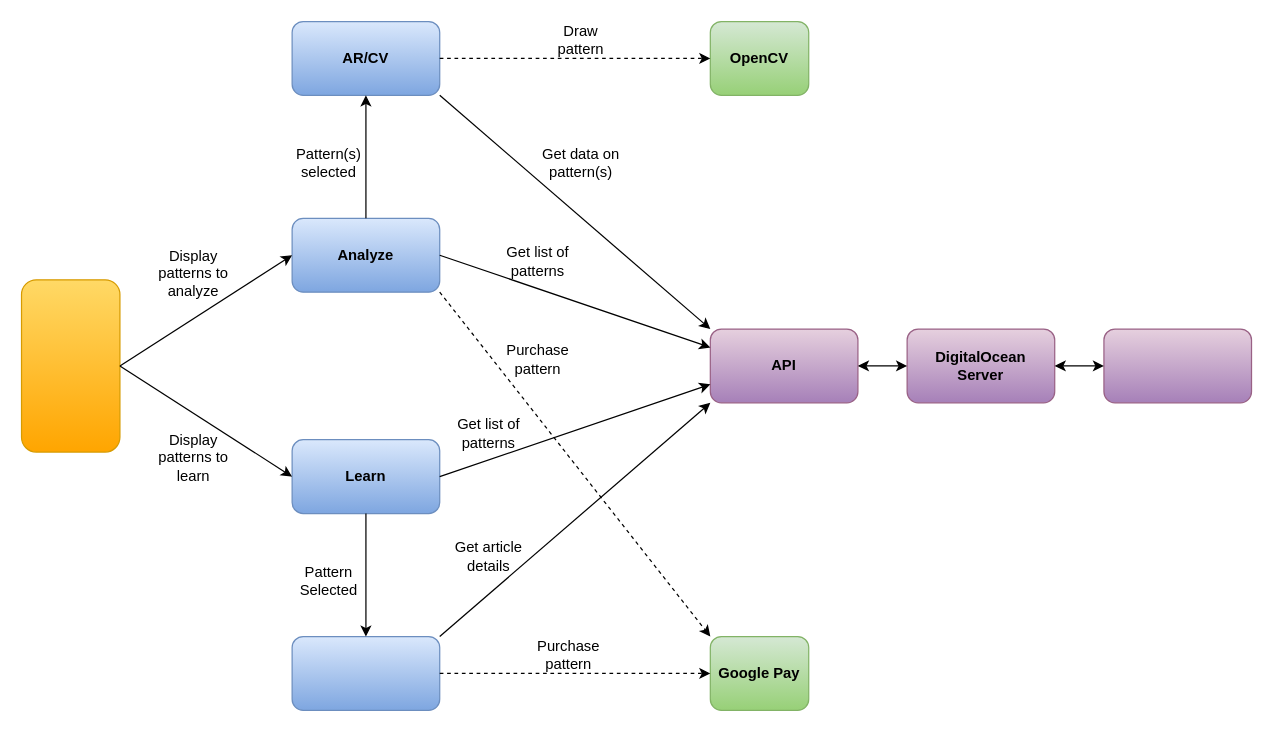
This 1273x732 diagram has some shape labels left out. Each missing label, with the centre of its shape:
"Article" goes at (x=365, y=672).
"Front End" goes at (x=70, y=365).
"mySQL Database" goes at (x=1177, y=365).
